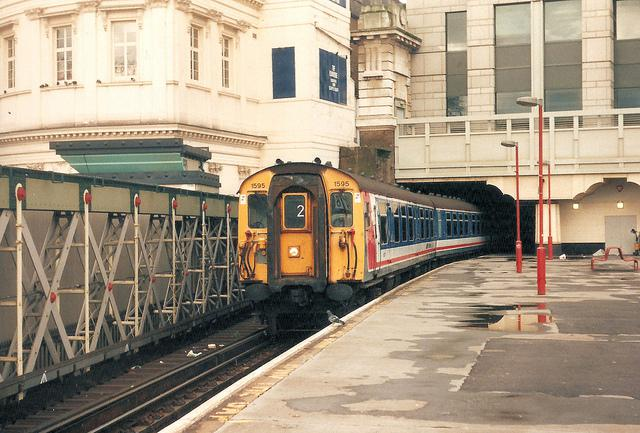Train: (235, 158, 492, 338)
